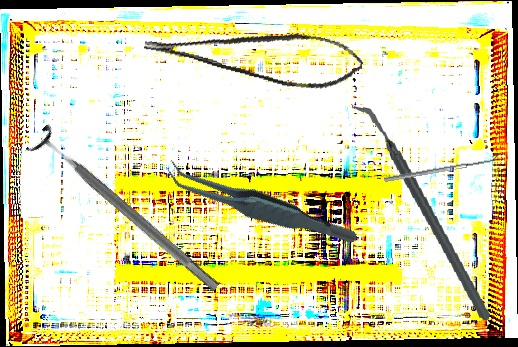Chopper: (351, 91, 492, 332)
Fixation Ring: (24, 121, 229, 303)
Micro Scissor: (142, 0, 367, 101)
Spatula Surgical: (383, 152, 500, 183)
Tissue Forceps: (161, 128, 360, 282)
